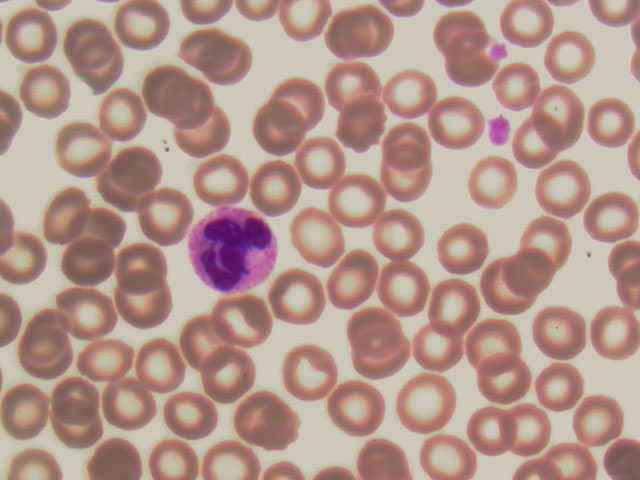Platelets: (484, 112, 515, 153), (491, 40, 511, 59)
RBC: (397, 372, 461, 427), (410, 322, 474, 377), (425, 276, 489, 331), (430, 221, 494, 276), (463, 158, 527, 213), (429, 96, 493, 151), (385, 67, 449, 122), (323, 53, 382, 111), (338, 98, 397, 156), (328, 4, 387, 62), (140, 63, 197, 114), (95, 91, 152, 142), (59, 121, 116, 172), (110, 140, 167, 191), (137, 190, 194, 241), (70, 202, 127, 253), (36, 190, 93, 241), (59, 238, 116, 289), (107, 234, 164, 285), (117, 276, 174, 327), (60, 285, 117, 336), (13, 314, 70, 365), (81, 327, 138, 378), (49, 371, 106, 422), (49, 402, 106, 453), (419, 428, 476, 479), (583, 309, 640, 360), (1, 386, 57, 437), (434, 1, 490, 52), (438, 35, 494, 86), (488, 59, 544, 110), (544, 30, 600, 81), (534, 82, 590, 133), (580, 94, 636, 145), (511, 126, 567, 177), (534, 161, 590, 212), (520, 214, 576, 265), (506, 258, 562, 309), (489, 262, 545, 313), (464, 316, 520, 367), (471, 359, 527, 410), (465, 397, 521, 448), (509, 400, 565, 451), (526, 365, 582, 416), (534, 307, 590, 358), (583, 187, 639, 238), (500, 1, 556, 51), (354, 431, 409, 480), (105, 382, 158, 430), (134, 344, 187, 392), (176, 317, 229, 365), (217, 295, 270, 343), (204, 352, 257, 400), (238, 397, 291, 445), (286, 345, 339, 393), (272, 272, 325, 320), (327, 250, 380, 298), (291, 213, 344, 261), (253, 164, 306, 212), (197, 158, 250, 206), (183, 114, 236, 162), (167, 76, 220, 124), (75, 47, 128, 95), (63, 24, 116, 72), (25, 68, 78, 116), (7, 11, 60, 59), (177, 17, 230, 65), (204, 36, 257, 84), (251, 106, 304, 154), (276, 77, 329, 125), (298, 133, 351, 181), (331, 175, 384, 223), (373, 209, 426, 257), (379, 262, 432, 310), (347, 308, 400, 356), (356, 332, 409, 380), (327, 381, 380, 429), (117, 1, 170, 48), (202, 439, 260, 480), (92, 439, 142, 480), (145, 439, 195, 480), (170, 395, 220, 436)
WBC: (190, 205, 282, 289)
